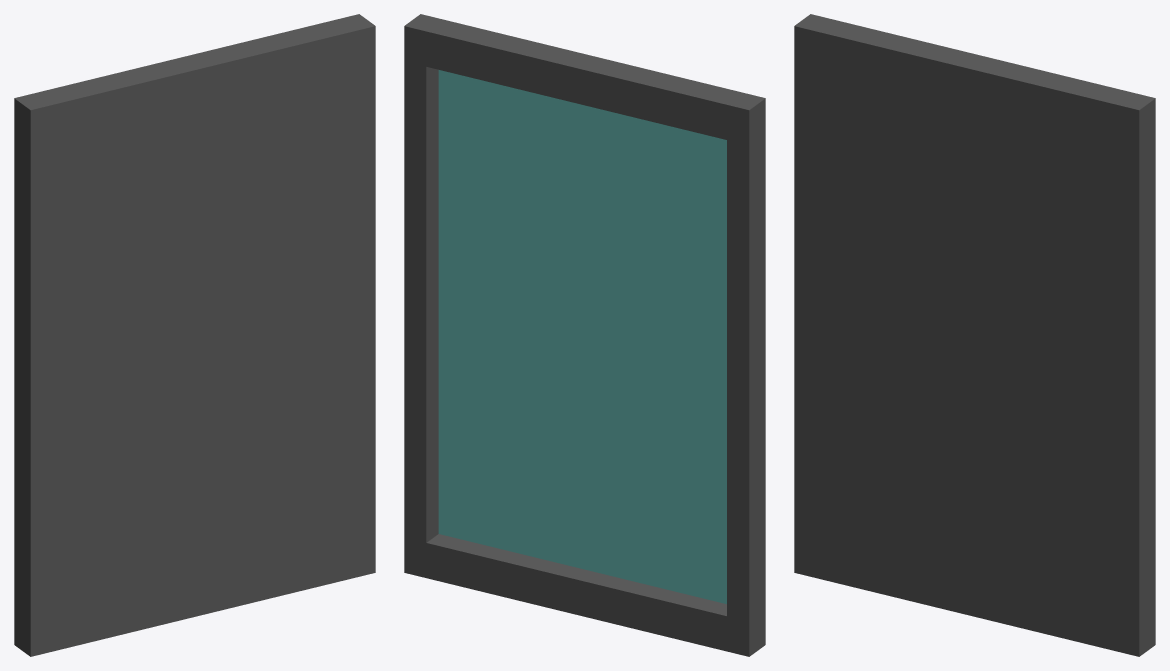
Rendered from Mirror.fbx.
3 renders of one model, left to right at view 1: azimuth 30°, elevation 25°; view 2: azimuth 150°, elevation 25°; view 3: azimuth 330°, elevation 25°, orthographic.
Visible parts, largest first — view 1: Cube; view 2: Cube; view 3: Cube.
Boxes of the visible parts, x1,y1,x2,y2 form: Cube: (14,14,375,656); Cube: (404,14,765,656); Cube: (794,14,1155,656).
Bounding box in the file's own units: 200 × 303 × 16.57.
